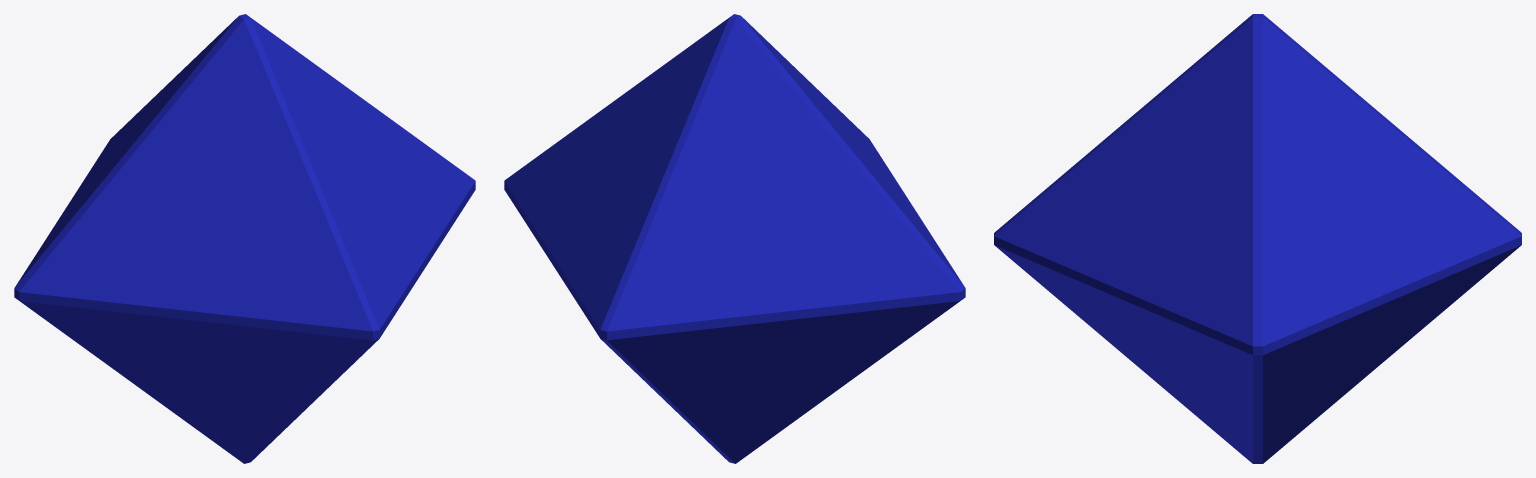
File: ramiel.obj
3 views of the same model, side by side, from view 1: azimuth 30°, elevation 25°; view 2: azimuth 150°, elevation 25°; view 3: azimuth 270°, elevation 25° (orthographic).
Visible parts, largest first — view 1: Ramiel; view 2: Ramiel; view 3: Ramiel.
Part boxes in pixels (x1,y1,x2,y2): Ramiel: (14,14,475,463); Ramiel: (504,14,965,463); Ramiel: (994,14,1521,463).
Size of the model in its own units: 2.91 by 2.71 by 2.9.
